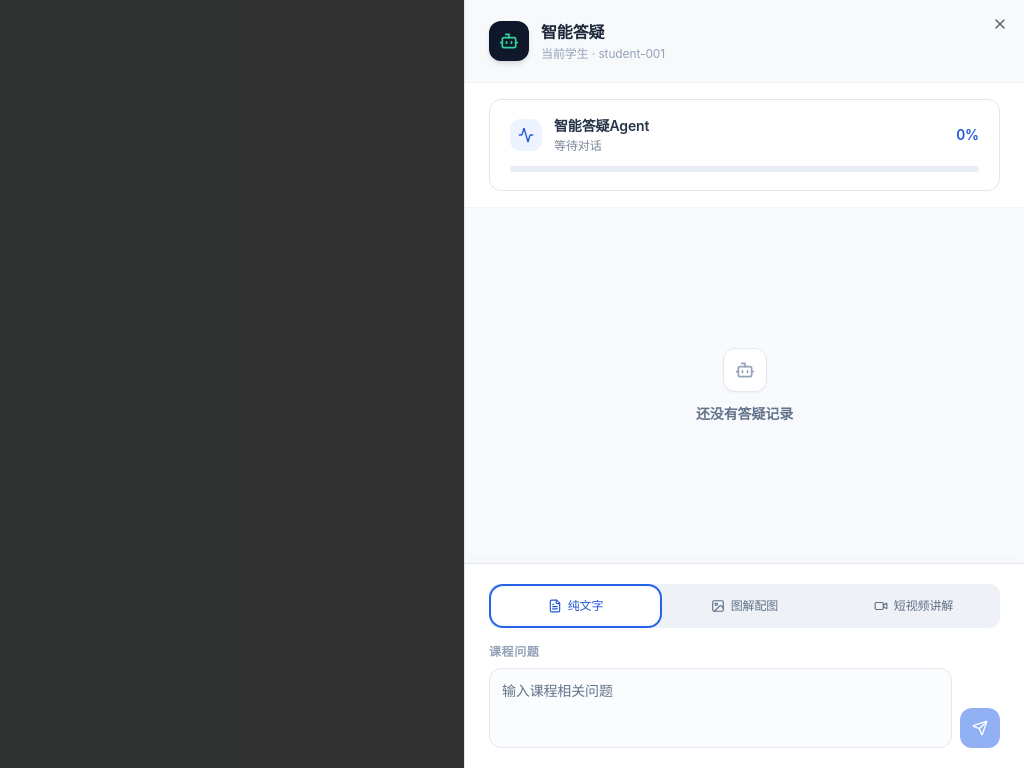
Scenario: QaDrawer › streams Markdown and shows a truthful empty media state in demo mode
In the text box labelled "课程问题": coordinates (720, 708) [489,668,952,748], type "什么是发布订阅？"
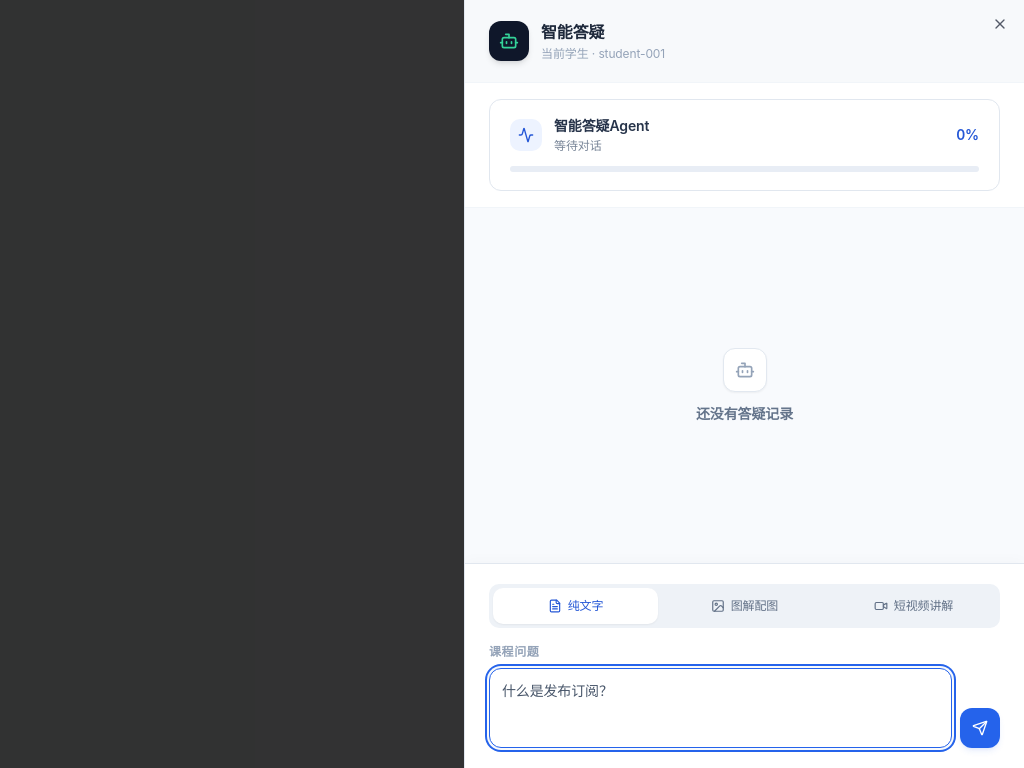
Click the radio button labelled "短视频讲解": coordinates (914, 606) [831,588,996,624]
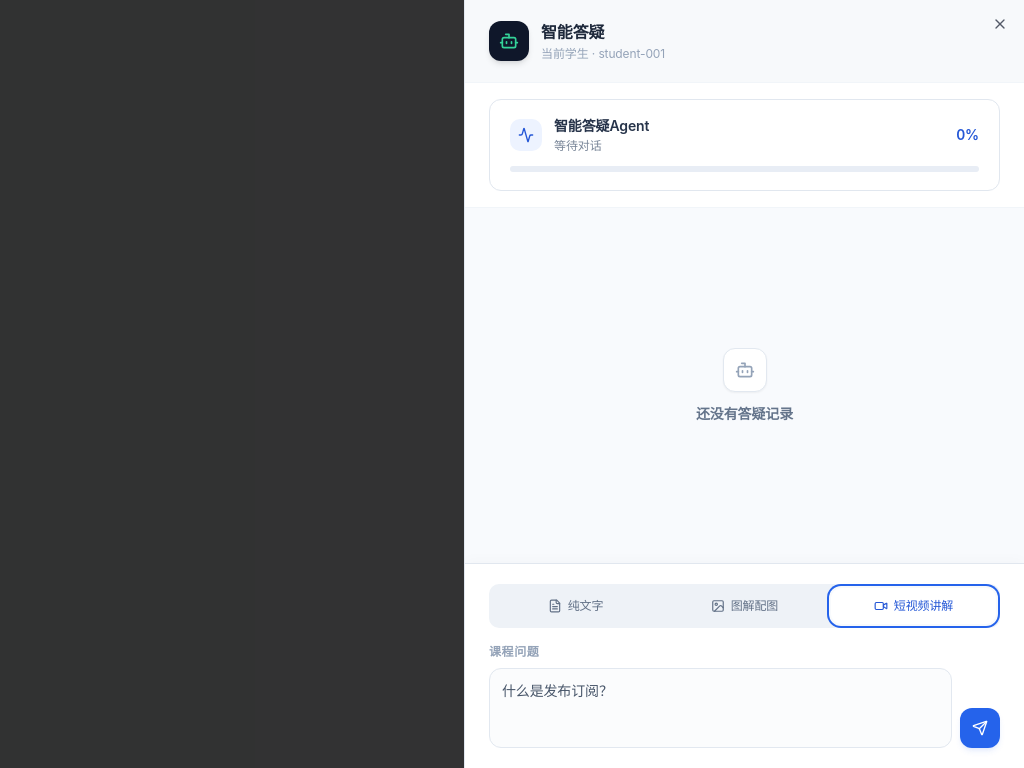
Click the button named "发送问题": coordinates (980, 728) [960,708,1000,748]
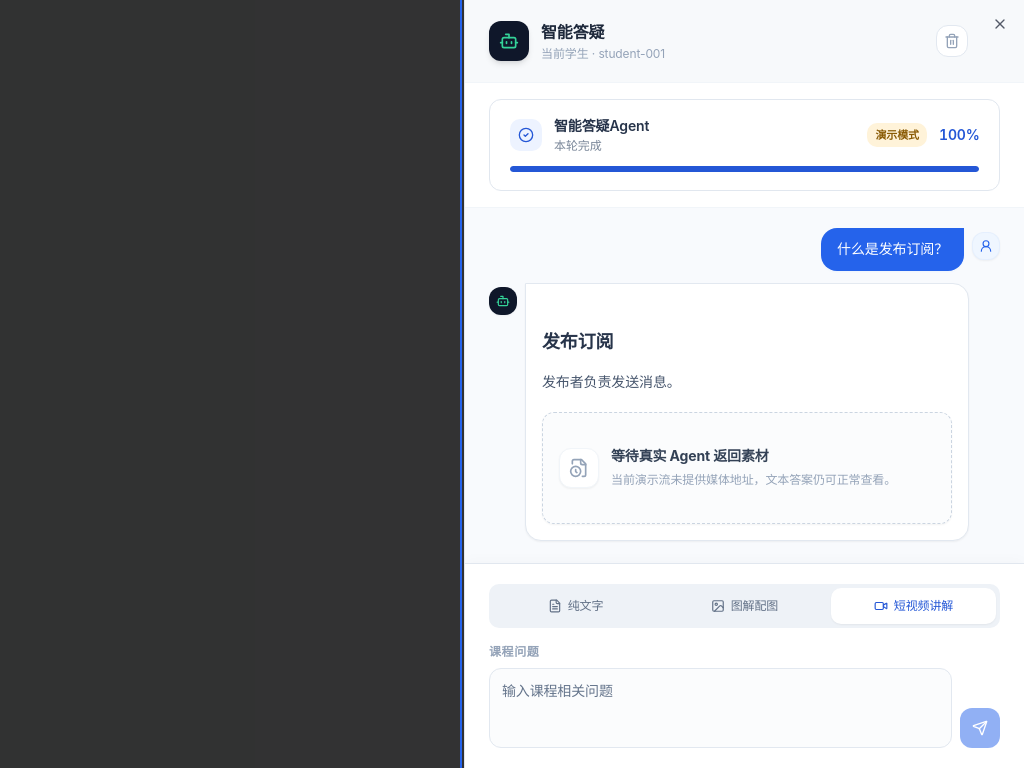
Expected: the text "智能答疑Agent" is shown, [554,116,649,136]
Now the heading "发布订阅" is shown, box [542,331,613,352]
Now the text "等待真实 Agent 返回素材" is shown, box [611,447,769,464]
